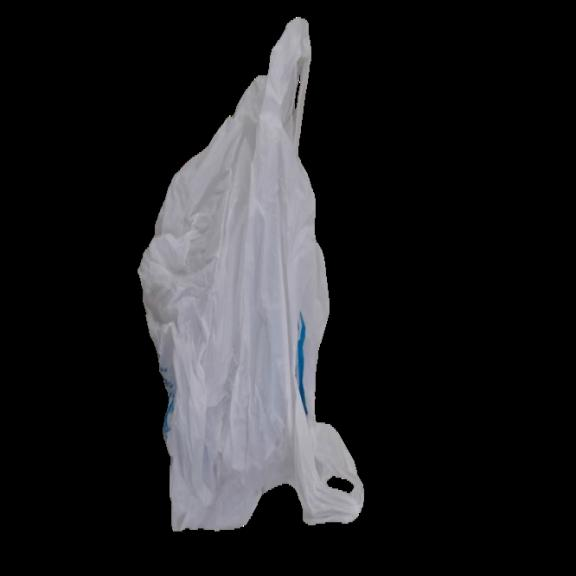Plastik: (135, 7, 372, 536)
